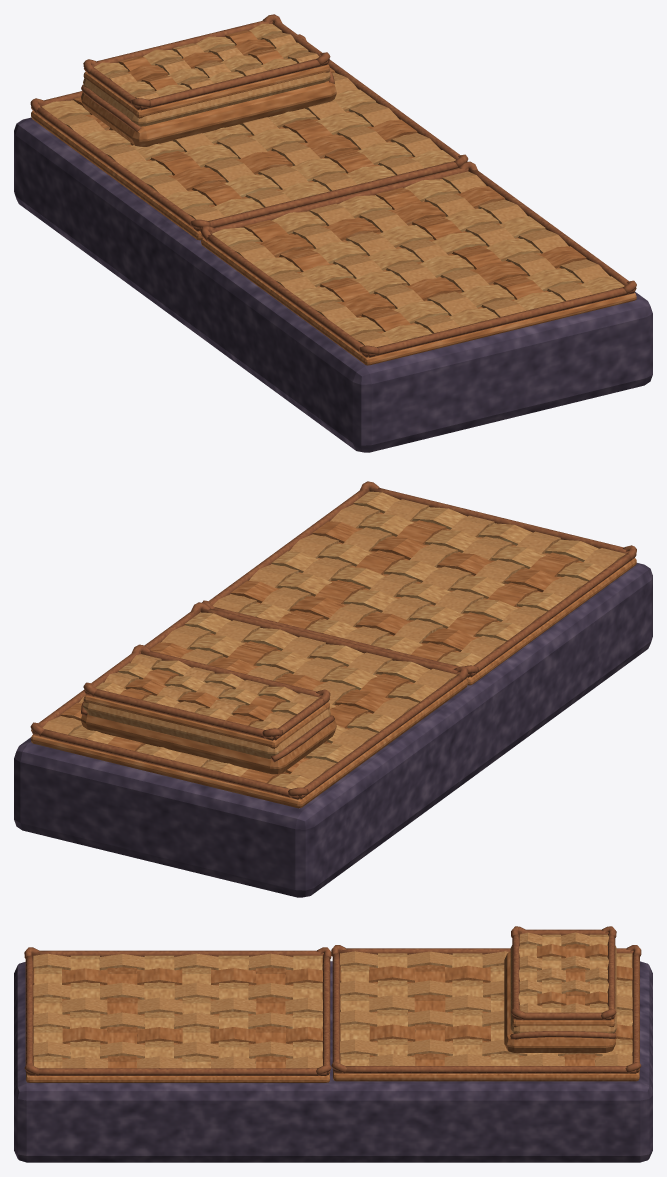
The model's file is Cama_de_Junco_Jogo_1K.glb.
The picture shows the model from 3 angles, top to bottom: view 1: azimuth 30°, elevation 25°; view 2: azimuth 150°, elevation 25°; view 3: azimuth 270°, elevation 25°; orthographic projection. The views are drawn at different scales.
Parts seen in each view (by area): view 1: Cama de Junco · produção; view 2: Cama de Junco · produção; view 3: Cama de Junco · produção.
Boxes of the visible parts, x1=… form: Cama de Junco · produção: x1=14, y1=14, x2=652, y2=452; Cama de Junco · produção: x1=14, y1=481, x2=652, y2=897; Cama de Junco · produção: x1=14, y1=926, x2=652, y2=1162.
Bounding box in the file's own units: 0.965 × 0.451 × 1.97.
Materials: 1 (1 with a texture image).
